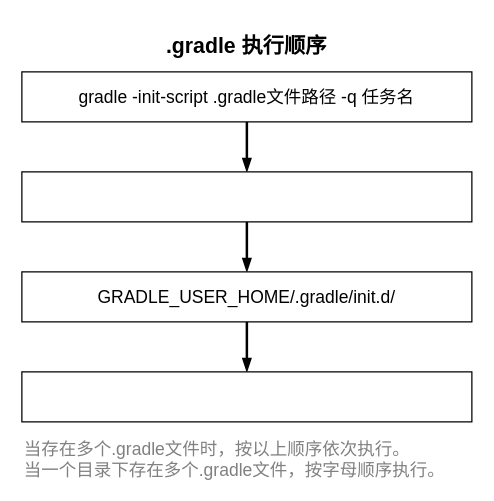
This 494x501 diagram has some shape labels left out. The centre of each missing label's shape, as x and y in pixels:
"GRADLE_HOME/init.d/" belongs at (x=246, y=396).
"GRADLE_USER_HOME/.gradle/" belongs at (x=246, y=196).
